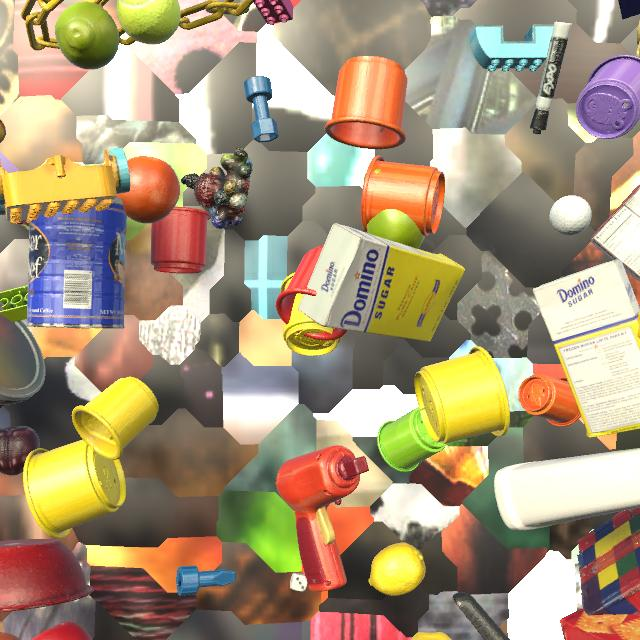ycb_002_master_chef_can: (26, 197, 127, 329)
ycb_003_cracker_box: (560, 608, 640, 640)
ycb_004_sugar_box: (298, 223, 465, 342), (533, 259, 640, 437)
ycb_006_mustard_bottle: (411, 632, 452, 640)
ycb_008_pudding_box: (590, 184, 640, 282)
ycb_011_banana: (637, 311, 640, 339)
ycb_013_apple: (31, 622, 93, 640)
ycb_014_lemon: (368, 543, 426, 596)
ycb_016_pear: (364, 169, 425, 249), (55, 1, 119, 70)
ycb_017_orange: (117, 156, 180, 224), (0, 632, 21, 640)
ycb_018_plum: (0, 426, 40, 476)
